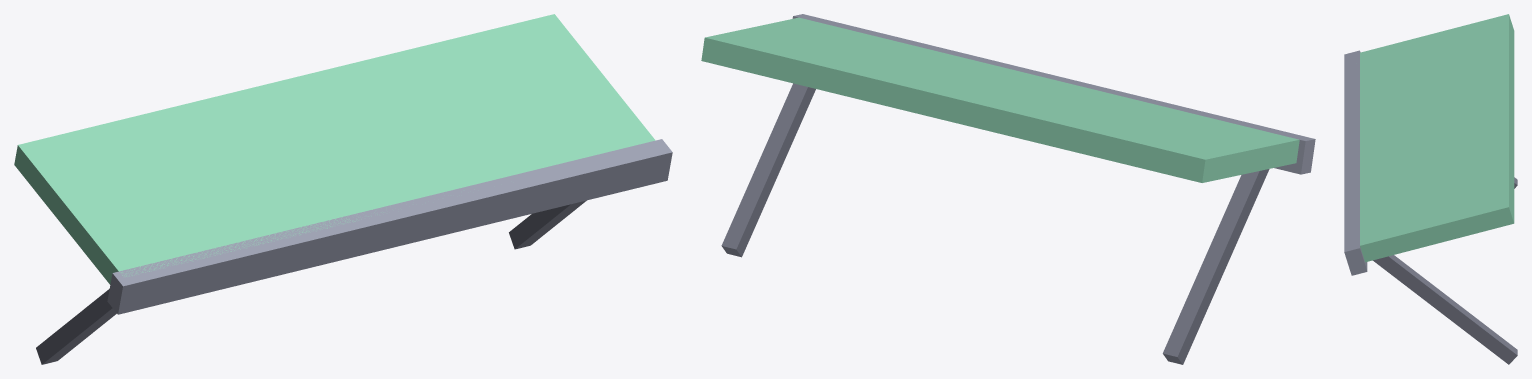
Rendered from door-hood.glb.
3 views of the same model, side by side, from view 1: azimuth 30°, elevation 25°; view 2: azimuth 150°, elevation 25°; view 3: azimuth 270°, elevation 25° (orthographic). The views are drawn at different scales.
Parts seen in each view (by area): view 1: door-hood; view 2: door-hood; view 3: door-hood.
Part boxes in pixels (bbox=[...]): door-hood: bbox=[14, 14, 672, 364]; door-hood: bbox=[701, 14, 1315, 364]; door-hood: bbox=[1344, 14, 1517, 364].
Bounding box in the file's own units: 0.86 × 0.3377 × 0.3189.
Materials: 1 (1 with a texture image).
